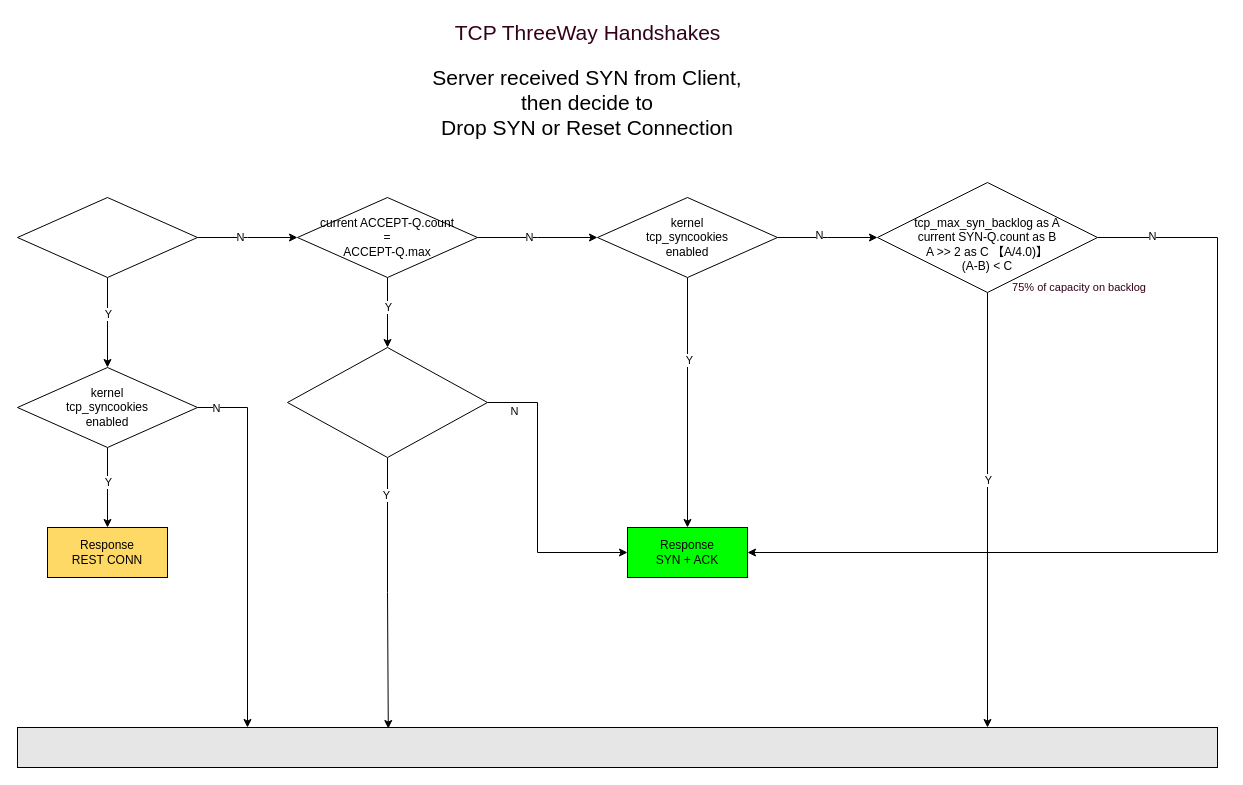
This 1243x785 diagram has some shape labels left out. Here are the shapes that lost their labels. From the top down, the centre of each, then its label:
pixel 107 237: current SYN-Q.count > SYN-Q.max
pixel 387 402: (Count of ReTransmission SYN+ACK in SYN-Q) as C C > 1
pixel 617 747: Drop SYN
